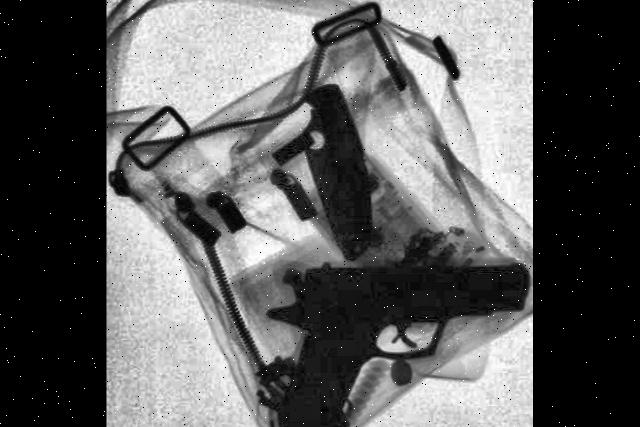Gun: (248, 256, 529, 427)
